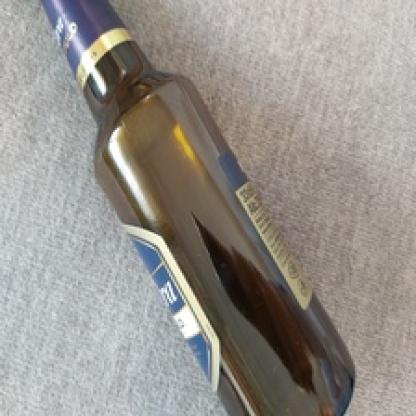Can: (32, 0, 358, 416)
